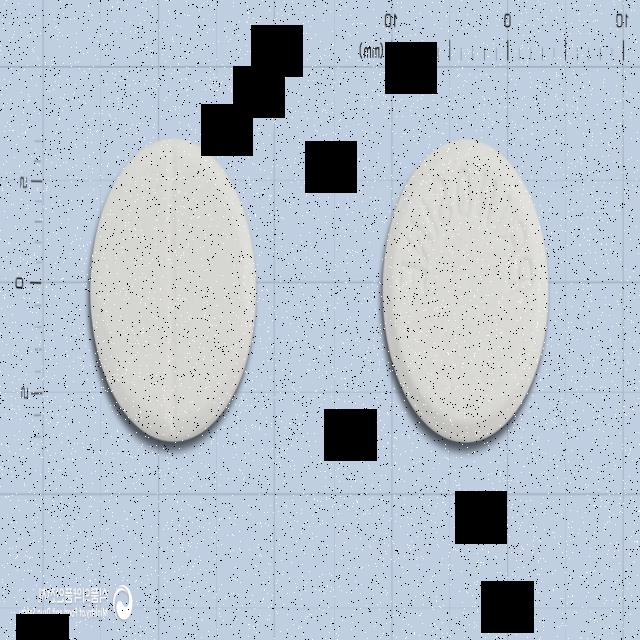Prinosine500mg: (380, 137, 550, 446), (89, 134, 256, 444)
